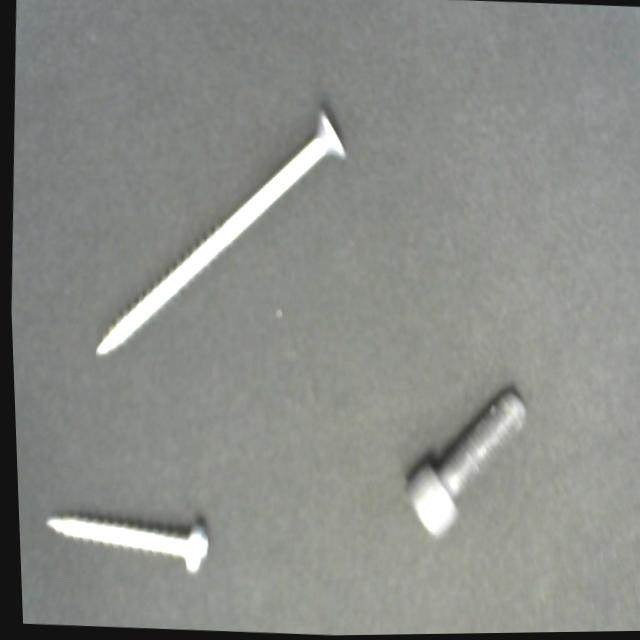SheetMetalScrew: (38, 497, 220, 587)
SocketHeadCapScrew: (392, 376, 534, 560)
WoodScrew: (83, 84, 361, 385)
